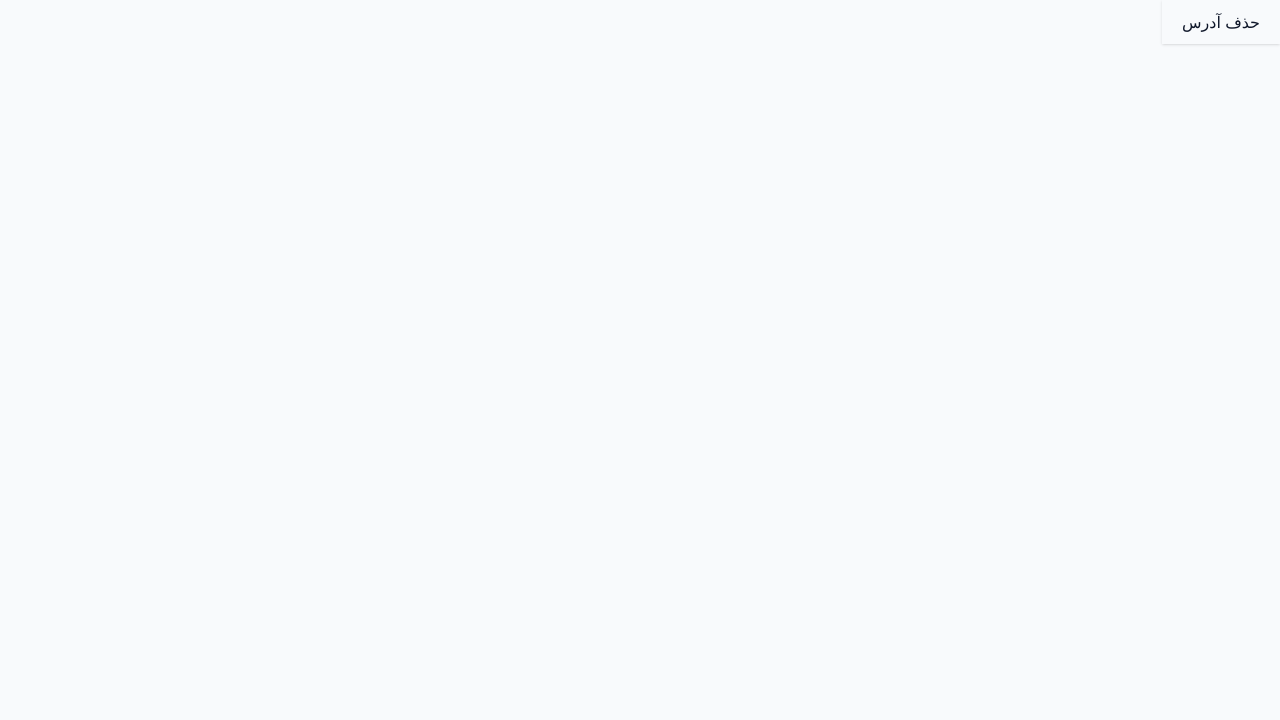
Test case: Dialog › returns focus to the pressed opener of a controlled dialog while <body> has focus (Safari)
The width and height of the screenshot is (1280, 720).
Click the button "حذف آدرس" at (1221, 22), box [1162, 0, 1279, 44]
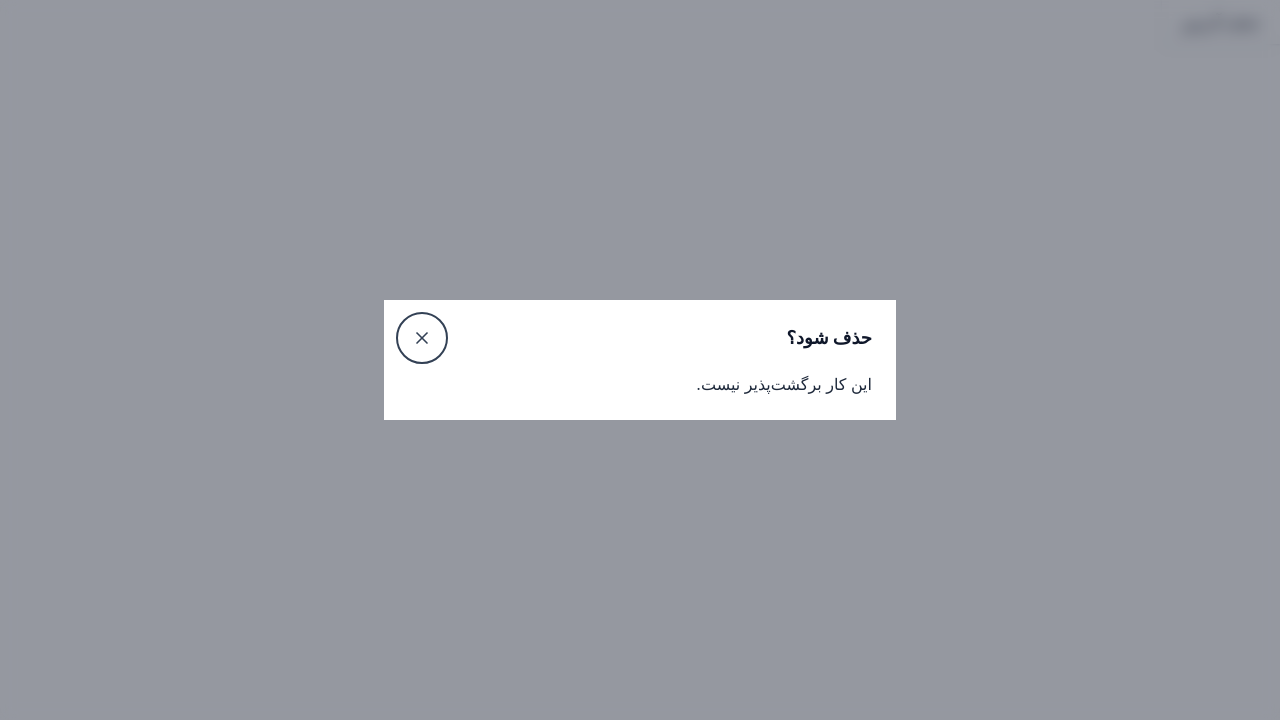
Press Escape
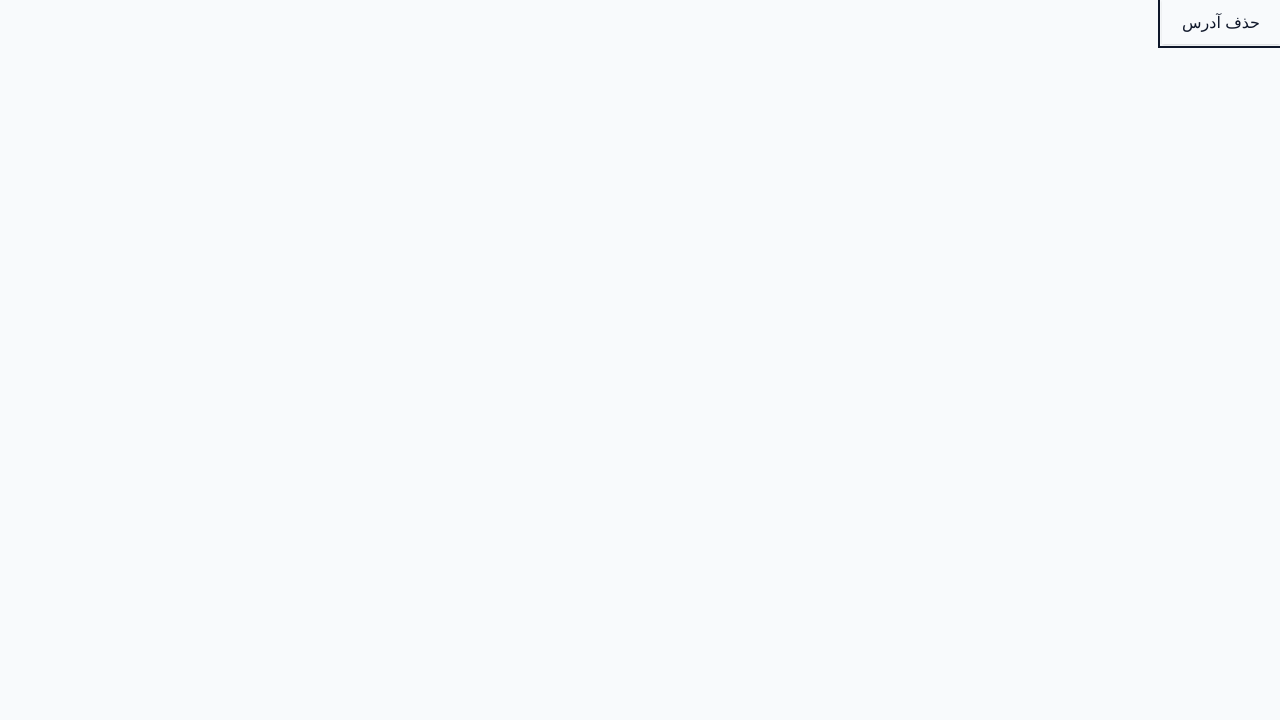
Expected: the dialog is gone
